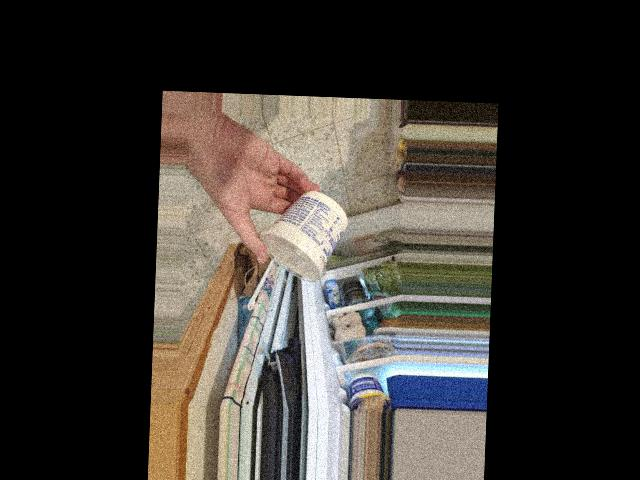cotage: (252, 190, 339, 270)
